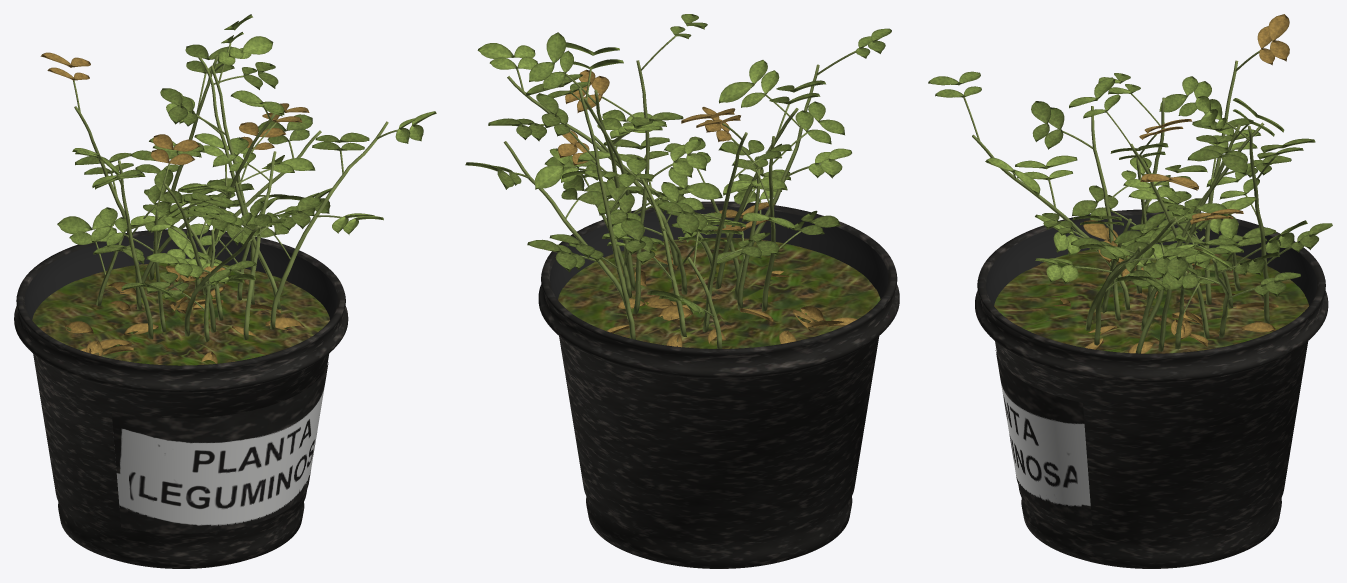
The model's file is planta_12_06_web.glb.
The picture shows the model from 3 angles, left to right: view 1: azimuth 30°, elevation 25°; view 2: azimuth 150°, elevation 25°; view 3: azimuth 270°, elevation 25°; orthographic projection. The views are drawn at different scales.
Parts seen in each view (by area): view 1: Vaso, Planta_Amendoim_Forrageiro, Rotulo_Vaso, Solo; view 2: Vaso, Planta_Amendoim_Forrageiro, Solo; view 3: Vaso, Planta_Amendoim_Forrageiro, Solo, Rotulo_Vaso.
Part boxes in pixels (x1,y1,x2,y2): Vaso: (14, 229, 348, 568); Planta_Amendoim_Forrageiro: (40, 14, 436, 363); Rotulo_Vaso: (111, 362, 328, 533); Solo: (32, 263, 329, 365); Vaso: (538, 201, 899, 568); Planta_Amendoim_Forrageiro: (465, 14, 891, 348); Solo: (558, 237, 880, 348); Vaso: (975, 209, 1328, 568); Planta_Amendoim_Forrageiro: (928, 14, 1332, 353); Solo: (994, 245, 1309, 353); Rotulo_Vaso: (995, 350, 1092, 525).
Size of the model in its own units: 0.2143 by 0.24 by 0.1849.
5 materials, 4 textured.
